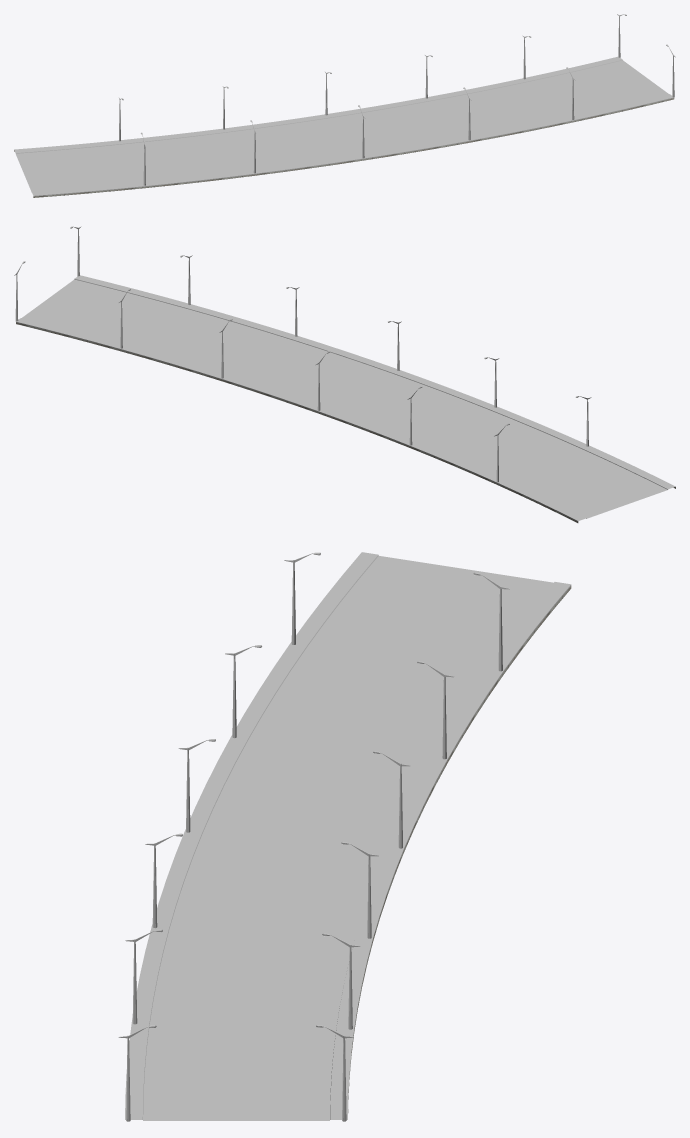
The model's file is Big_Road_20.FBX.
The picture shows the model from 3 angles, top to bottom: view 1: azimuth 30°, elevation 25°; view 2: azimuth 150°, elevation 25°; view 3: azimuth 270°, elevation 25°; orthographic projection. The views are drawn at different scales.
Parts seen in each view (by area): view 1: Big_Road_20, city_light003; view 2: Big_Road_20, city_light003; view 3: Big_Road_20, city_light003.
Part boxes in pixels (x1=…): Big_Road_20: x1=14, y1=56, x2=674, y2=197; city_light003: x1=119, y1=14, x2=675, y2=185; Big_Road_20: x1=16, y1=275, x2=675, y2=522; city_light003: x1=14, y1=226, x2=591, y2=482; Big_Road_20: x1=125, y1=552, x2=571, y2=1120; city_light003: x1=118, y1=552, x2=509, y2=1121.
Bounding box in the file's own units: 13680 × 1104 × 4604.
